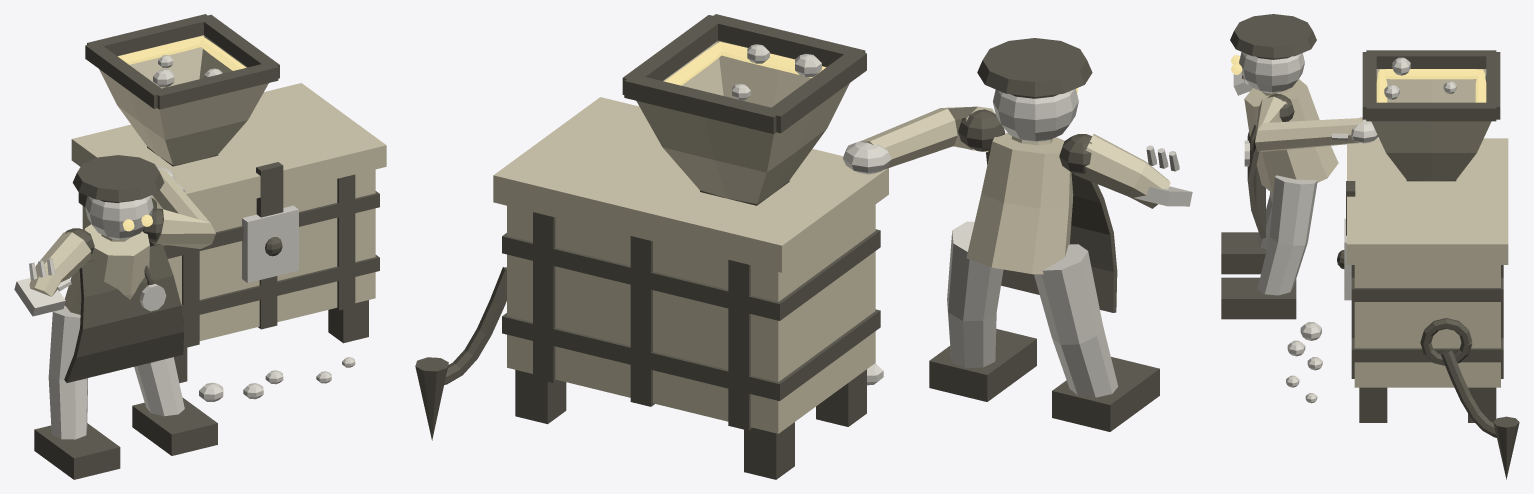
The model's file is reeve.glb.
3 views of the same model, side by side, from view 1: azimuth 30°, elevation 25°; view 2: azimuth 150°, elevation 25°; view 3: azimuth 270°, elevation 25° (orthographic). The views are drawn at different scales.
Visible parts, largest first — view 1: reeve_body, reeve_dark, reeve_bone, reeve_glow; view 2: reeve_body, reeve_dark, reeve_bone, reeve_glow; view 3: reeve_body, reeve_dark, reeve_bone, reeve_glow.
Part boxes in pixels (x1=…): reeve_body: x1=29, y1=35, x2=386, y2=340; reeve_dark: x1=34, y1=14, x2=379, y2=479; reeve_bone: x1=14, y1=55, x2=355, y2=439; reeve_glow: x1=118, y1=36, x2=246, y2=231; reeve_body: x1=493, y1=40, x2=1170, y2=433; reeve_dark: x1=415, y1=14, x2=1159, y2=479; reeve_bone: x1=732, y1=44, x2=1192, y2=397; reeve_glow: x1=664, y1=42, x2=1078, y2=93; reeve_body: x1=1241, y1=69, x2=1508, y2=387; reeve_dark: x1=1221, y1=14, x2=1519, y2=479; reeve_bone: x1=1233, y1=52, x2=1456, y2=403; reeve_glow: x1=1231, y1=55, x2=1486, y2=102.
Size of the model in its own units: 2.96 by 1.95 by 1.71.
